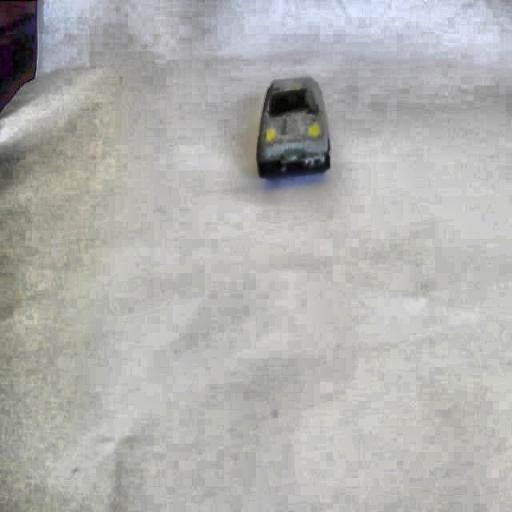normal_car: (253, 73, 334, 180)
